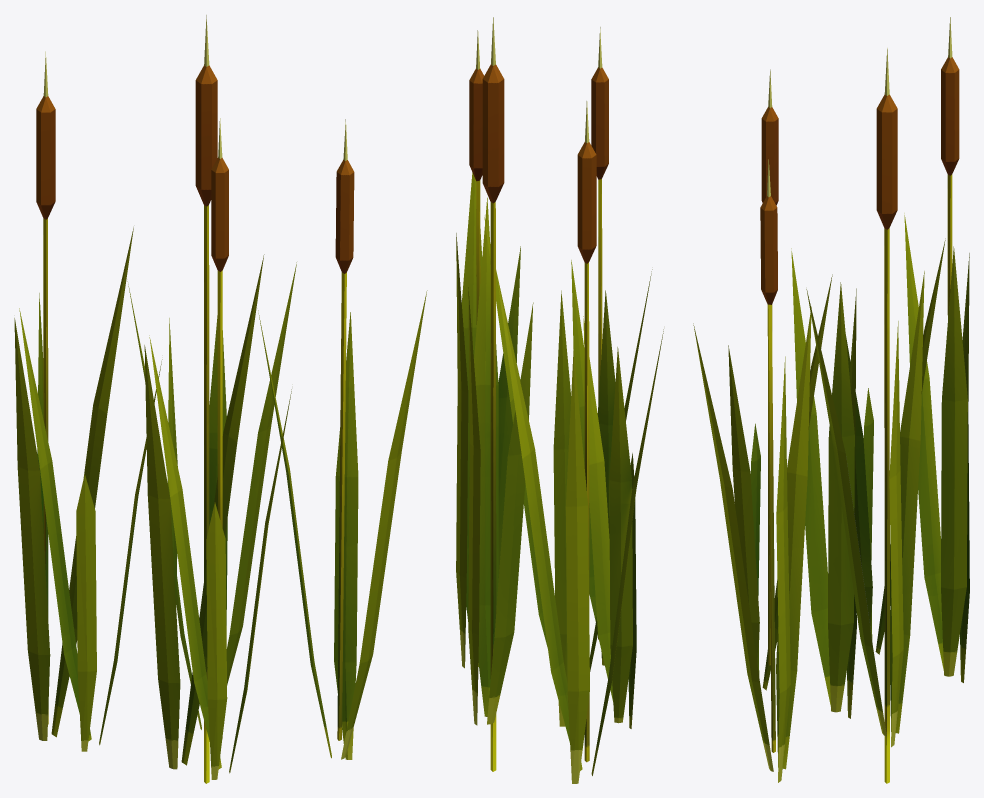
The model's file is planta2.obj.
3 views of the same model, side by side, from view 1: azimuth 30°, elevation 25°; view 2: azimuth 150°, elevation 25°; view 3: azimuth 270°, elevation 25° (orthographic). The views are drawn at different scales.
Parts seen in each view (by area): view 1: Mesh_Cube001; view 2: Mesh_Cube001; view 3: Mesh_Cube001.
Boxes of the visible parts, bbox=[...] form: Mesh_Cube001: bbox=[14, 15, 427, 783]; Mesh_Cube001: bbox=[456, 17, 663, 783]; Mesh_Cube001: bbox=[693, 17, 969, 783].
Size of the model in its own units: 0.3284 by 0.7963 by 0.271.
2 materials, 1 textured.
